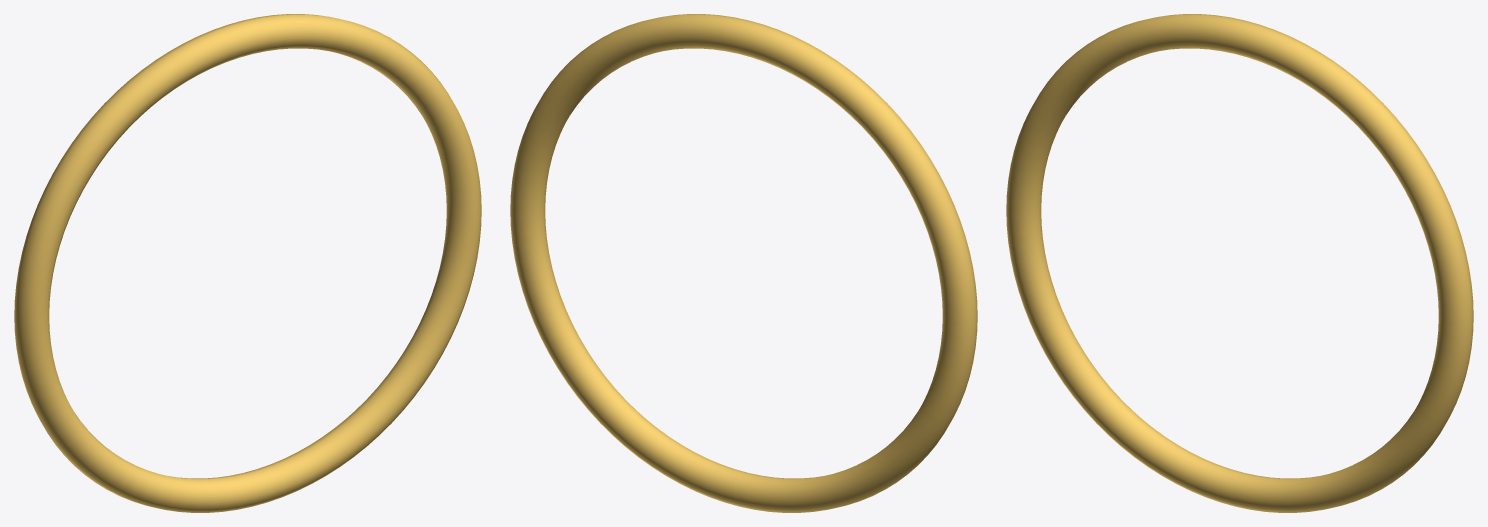
Rendered from sp_halo.glb.
3 views of the same model, side by side, from view 1: azimuth 30°, elevation 25°; view 2: azimuth 150°, elevation 25°; view 3: azimuth 330°, elevation 25° (orthographic).
Size of the model in its own units: 2.14 by 2.14 by 0.14.
